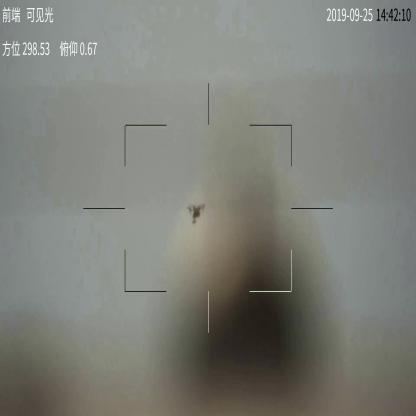uav: (184, 204, 208, 224)
